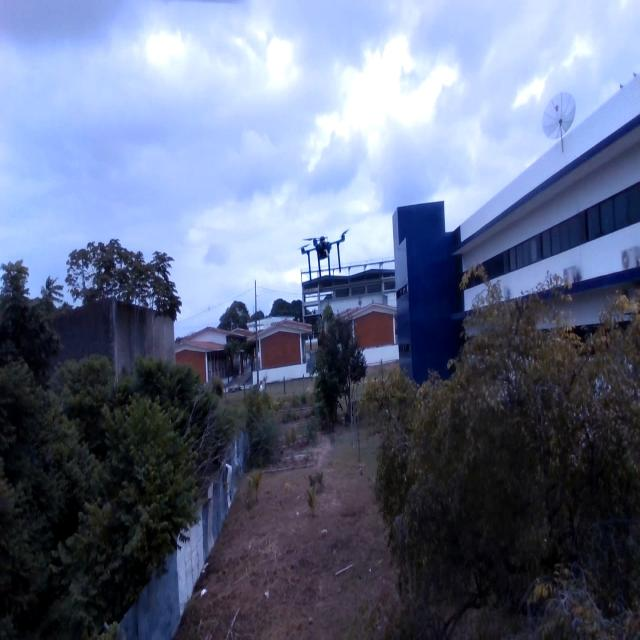-uav-: (291, 217, 359, 284)
